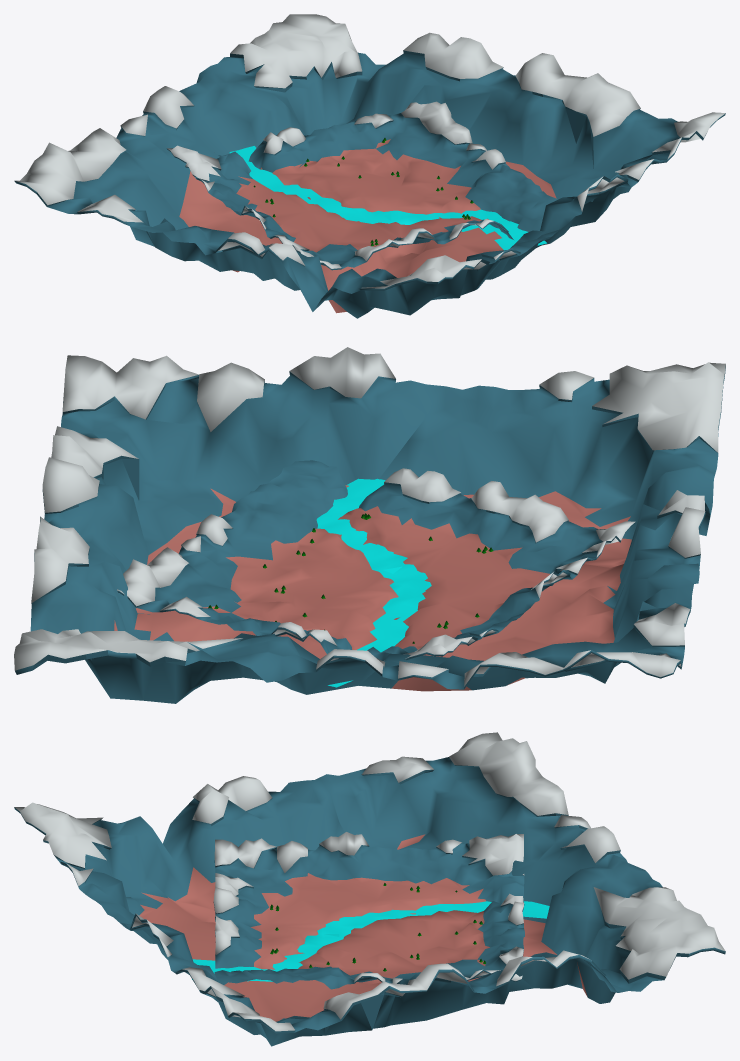
File: blenderTest.dae
3 views of the same model, one above another, from view 1: azimuth 30°, elevation 25°; view 2: azimuth 150°, elevation 25°; view 3: azimuth 270°, elevation 25° (orthographic). The views are drawn at different scales.
Visible parts, largest first — view 1: pPlane4, pPlane1, pPlane3; view 2: pPlane4, pPlane1, pPlane3; view 3: pPlane4, pPlane1, pPlane3.
Boxes of the visible parts, box(x1,y1,x2,y2) form: pPlane4: box(14, 14, 725, 318); pPlane1: box(167, 101, 557, 270); pPlane3: box(229, 146, 546, 250); pPlane4: box(14, 347, 725, 703); pPlane1: box(117, 460, 635, 661); pPlane3: box(316, 478, 431, 687); pPlane4: box(14, 732, 725, 1046); pPlane1: box(213, 832, 524, 989); pPlane3: box(192, 901, 549, 981).
Bounding box in the file's own units: 9.19 × 9.23 × 1.57.
